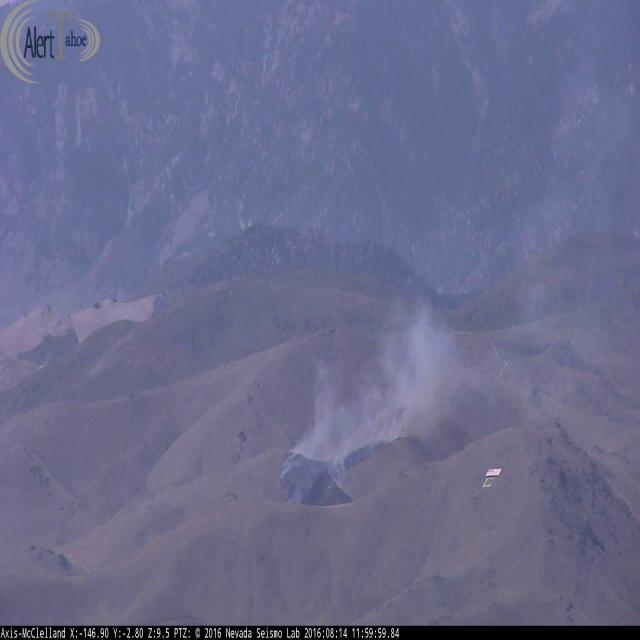smoke: (273, 271, 500, 510)
